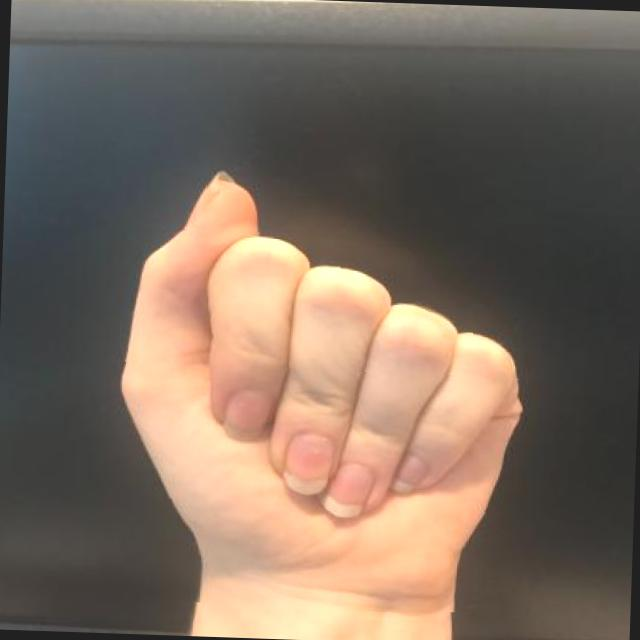A: (96, 160, 544, 616)
